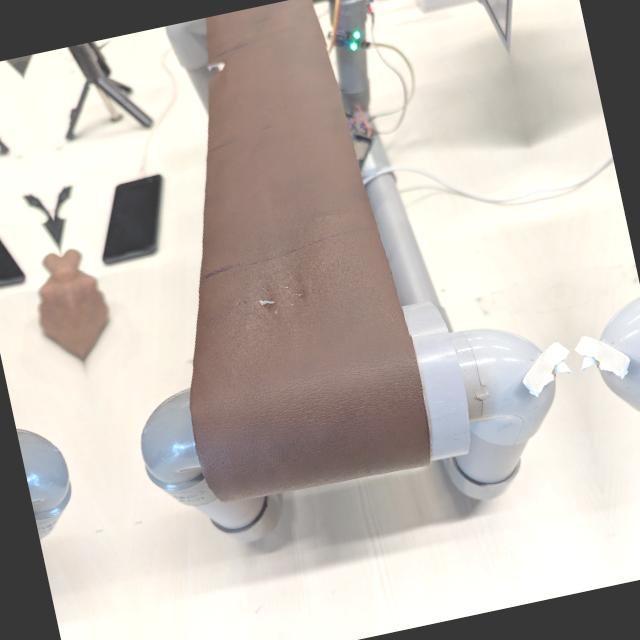belt_crack: (215, 261, 320, 341)
edge_damage: (199, 54, 229, 80)
